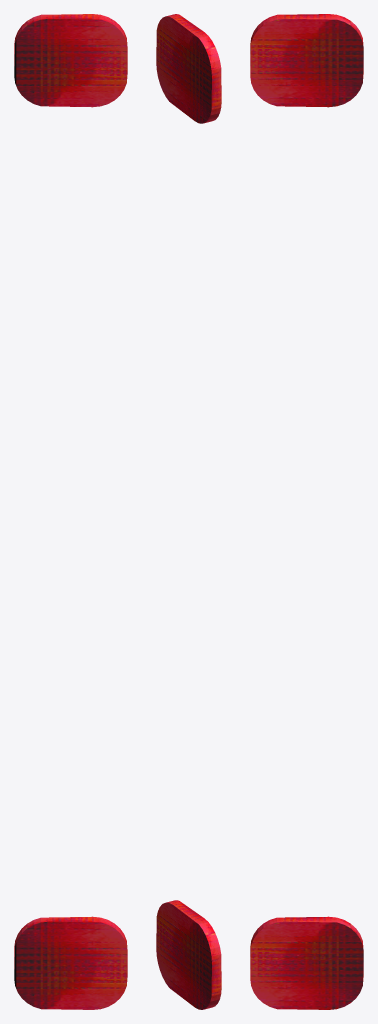
File: brakes.obj
The picture shows the model from 3 angles, left to right: view 1: azimuth 90°, elevation 25°; view 2: azimuth 210°, elevation 25°; view 3: azimuth 270°, elevation 25°; orthographic projection.
Parts seen in each view (by area): view 1: 1_-_Default; view 2: 1_-_Default; view 3: 1_-_Default.
Part boxes in pixels (bbox=[...]): 1_-_Default: bbox=[14, 14, 127, 1009]; 1_-_Default: bbox=[156, 14, 221, 1009]; 1_-_Default: bbox=[250, 14, 363, 1009].
Size of the model in its own units: 0.02 by 1.92 by 0.1989.
Materials: 1 (1 with a texture image).
